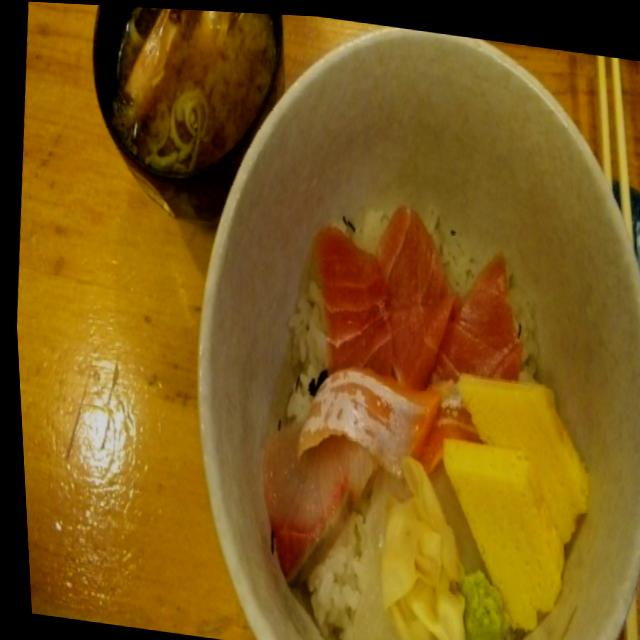寿司卷物: (137, 6, 640, 640)
汤锅炖物: (66, 3, 302, 213)
